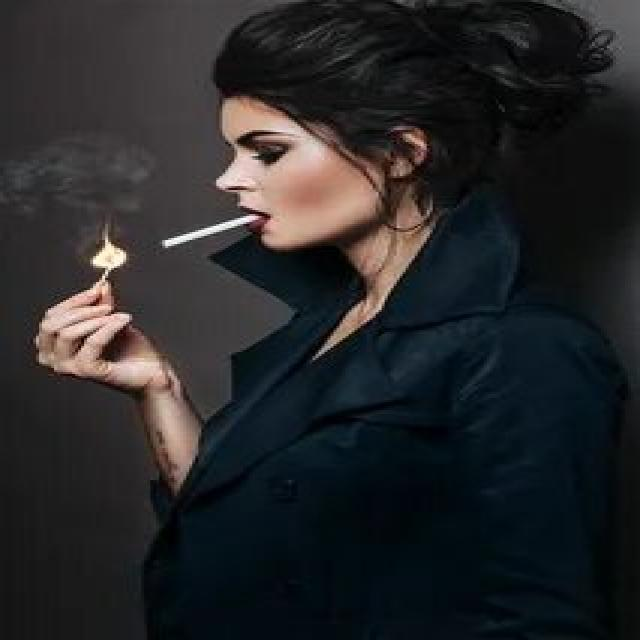smoke: (156, 210, 274, 250)
